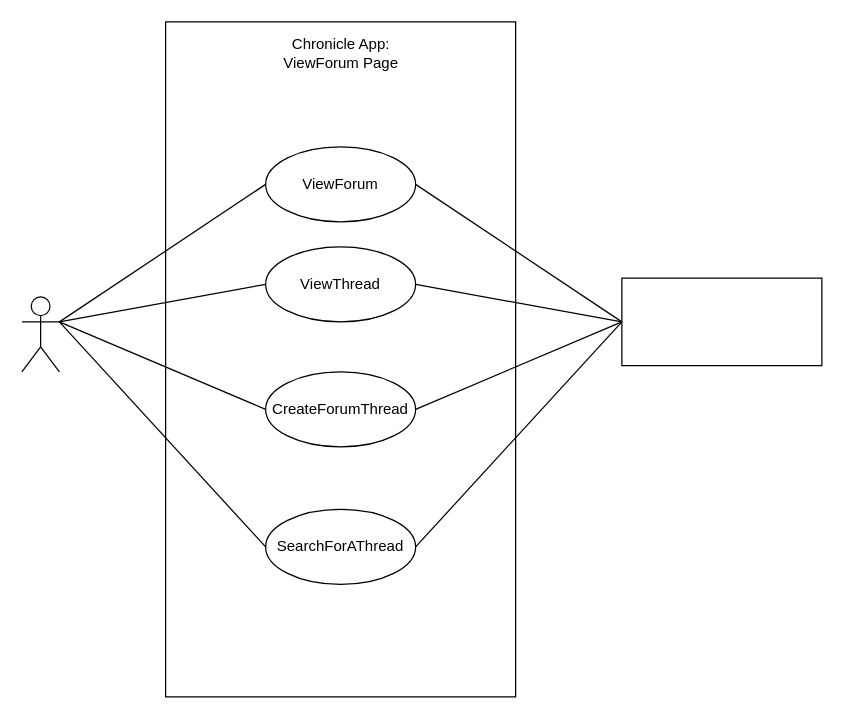
Image size: 844x719. Some labels were removed from this diagram. The shapes that lost their labels are listed below. From the top down, each one's box as (x1, y1, x2, y2) in pixels, then its label:
(21, 296, 59, 372): User
(621, 277, 822, 366): <<actor>> ForumManagementSystem
